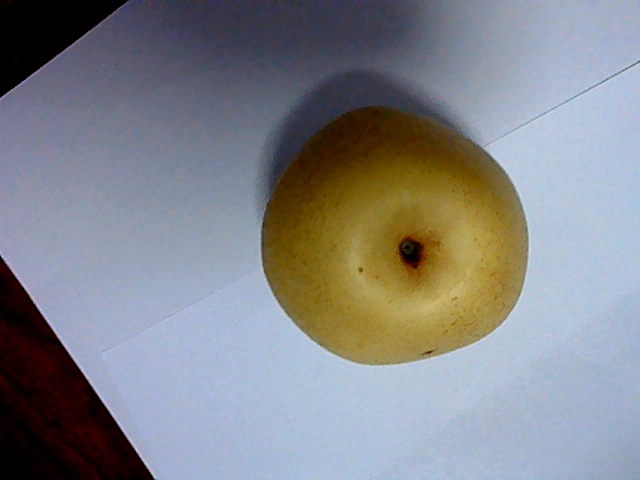pear: (264, 114, 534, 366)
